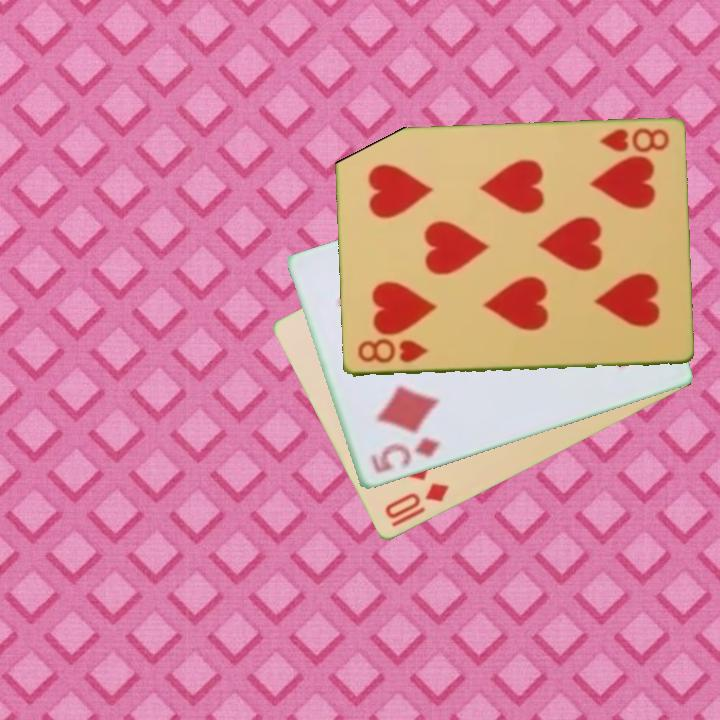10d: (381, 480, 452, 522)
5d: (367, 434, 444, 477)
8h: (596, 124, 672, 156), (354, 337, 430, 367)
